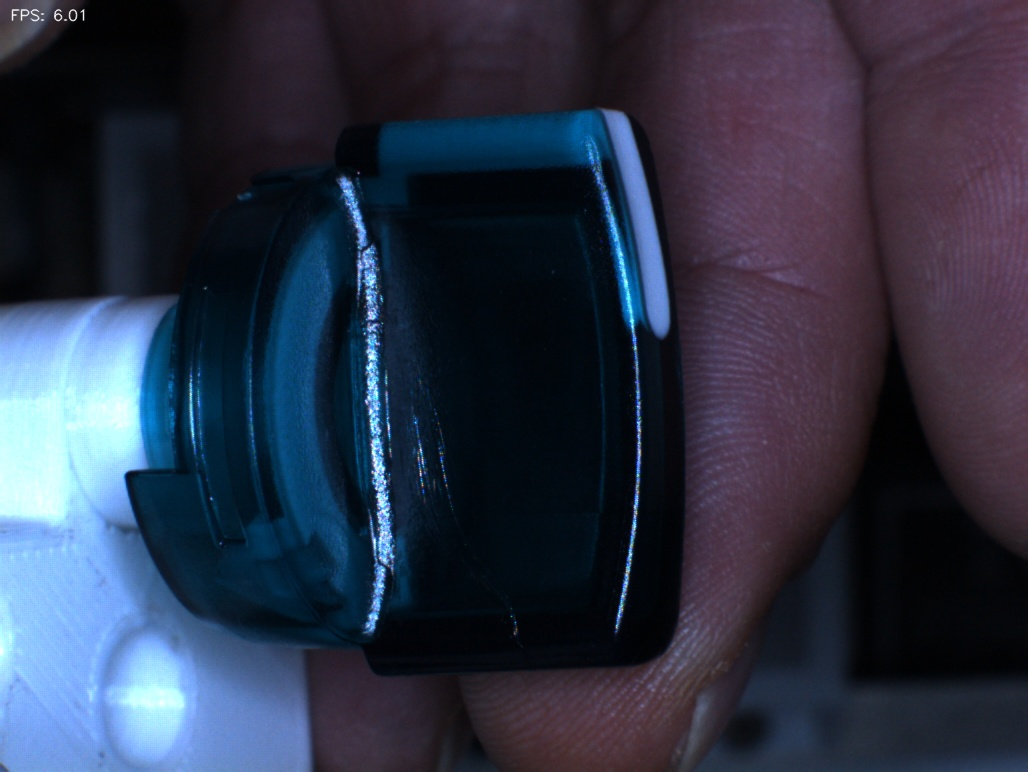Givrage: (396, 358, 533, 650)
